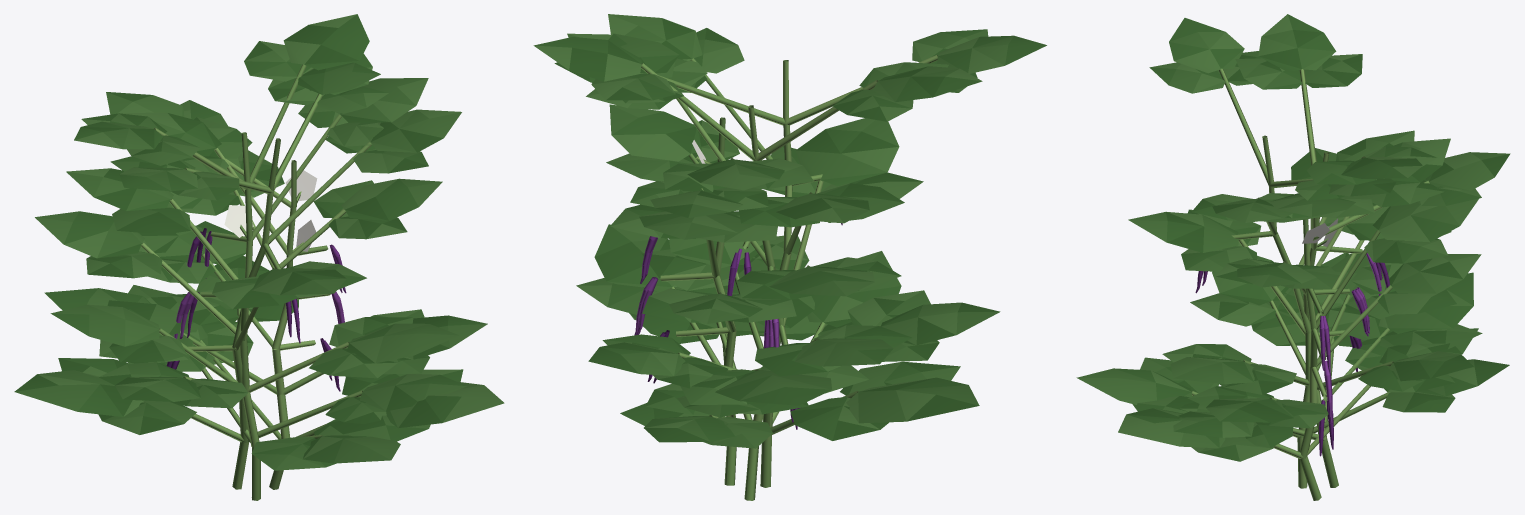
File: haricot_violet_fruits.glb
3 views of the same model, side by side, from view 1: azimuth 30°, elevation 25°; view 2: azimuth 150°, elevation 25°; view 3: azimuth 270°, elevation 25° (orthographic). The views are drawn at different scales.
Visible parts, largest first — view 1: Haricot_Feuilles, Haricot_Tiges, Haricot_Gousses, Haricot_Fleurs; view 2: Haricot_Feuilles, Haricot_Tiges, Haricot_Gousses; view 3: Haricot_Feuilles, Haricot_Tiges, Haricot_Gousses.
Part boxes in pixels (x1,y1,x2,y2): Haricot_Feuilles: (14, 14, 504, 470); Haricot_Tiges: (141, 64, 371, 500); Haricot_Gousses: (166, 228, 346, 391); Haricot_Fleurs: (224, 170, 317, 251); Haricot_Feuilles: (533, 14, 1046, 448); Haricot_Tiges: (641, 55, 937, 500); Haricot_Gousses: (634, 223, 842, 429); Haricot_Feuilles: (1076, 14, 1510, 461); Haricot_Tiges: (1192, 68, 1429, 500); Haricot_Gousses: (1195, 253, 1389, 456).
Size of the model in its own units: 0.4256 by 0.412 by 0.4191.
